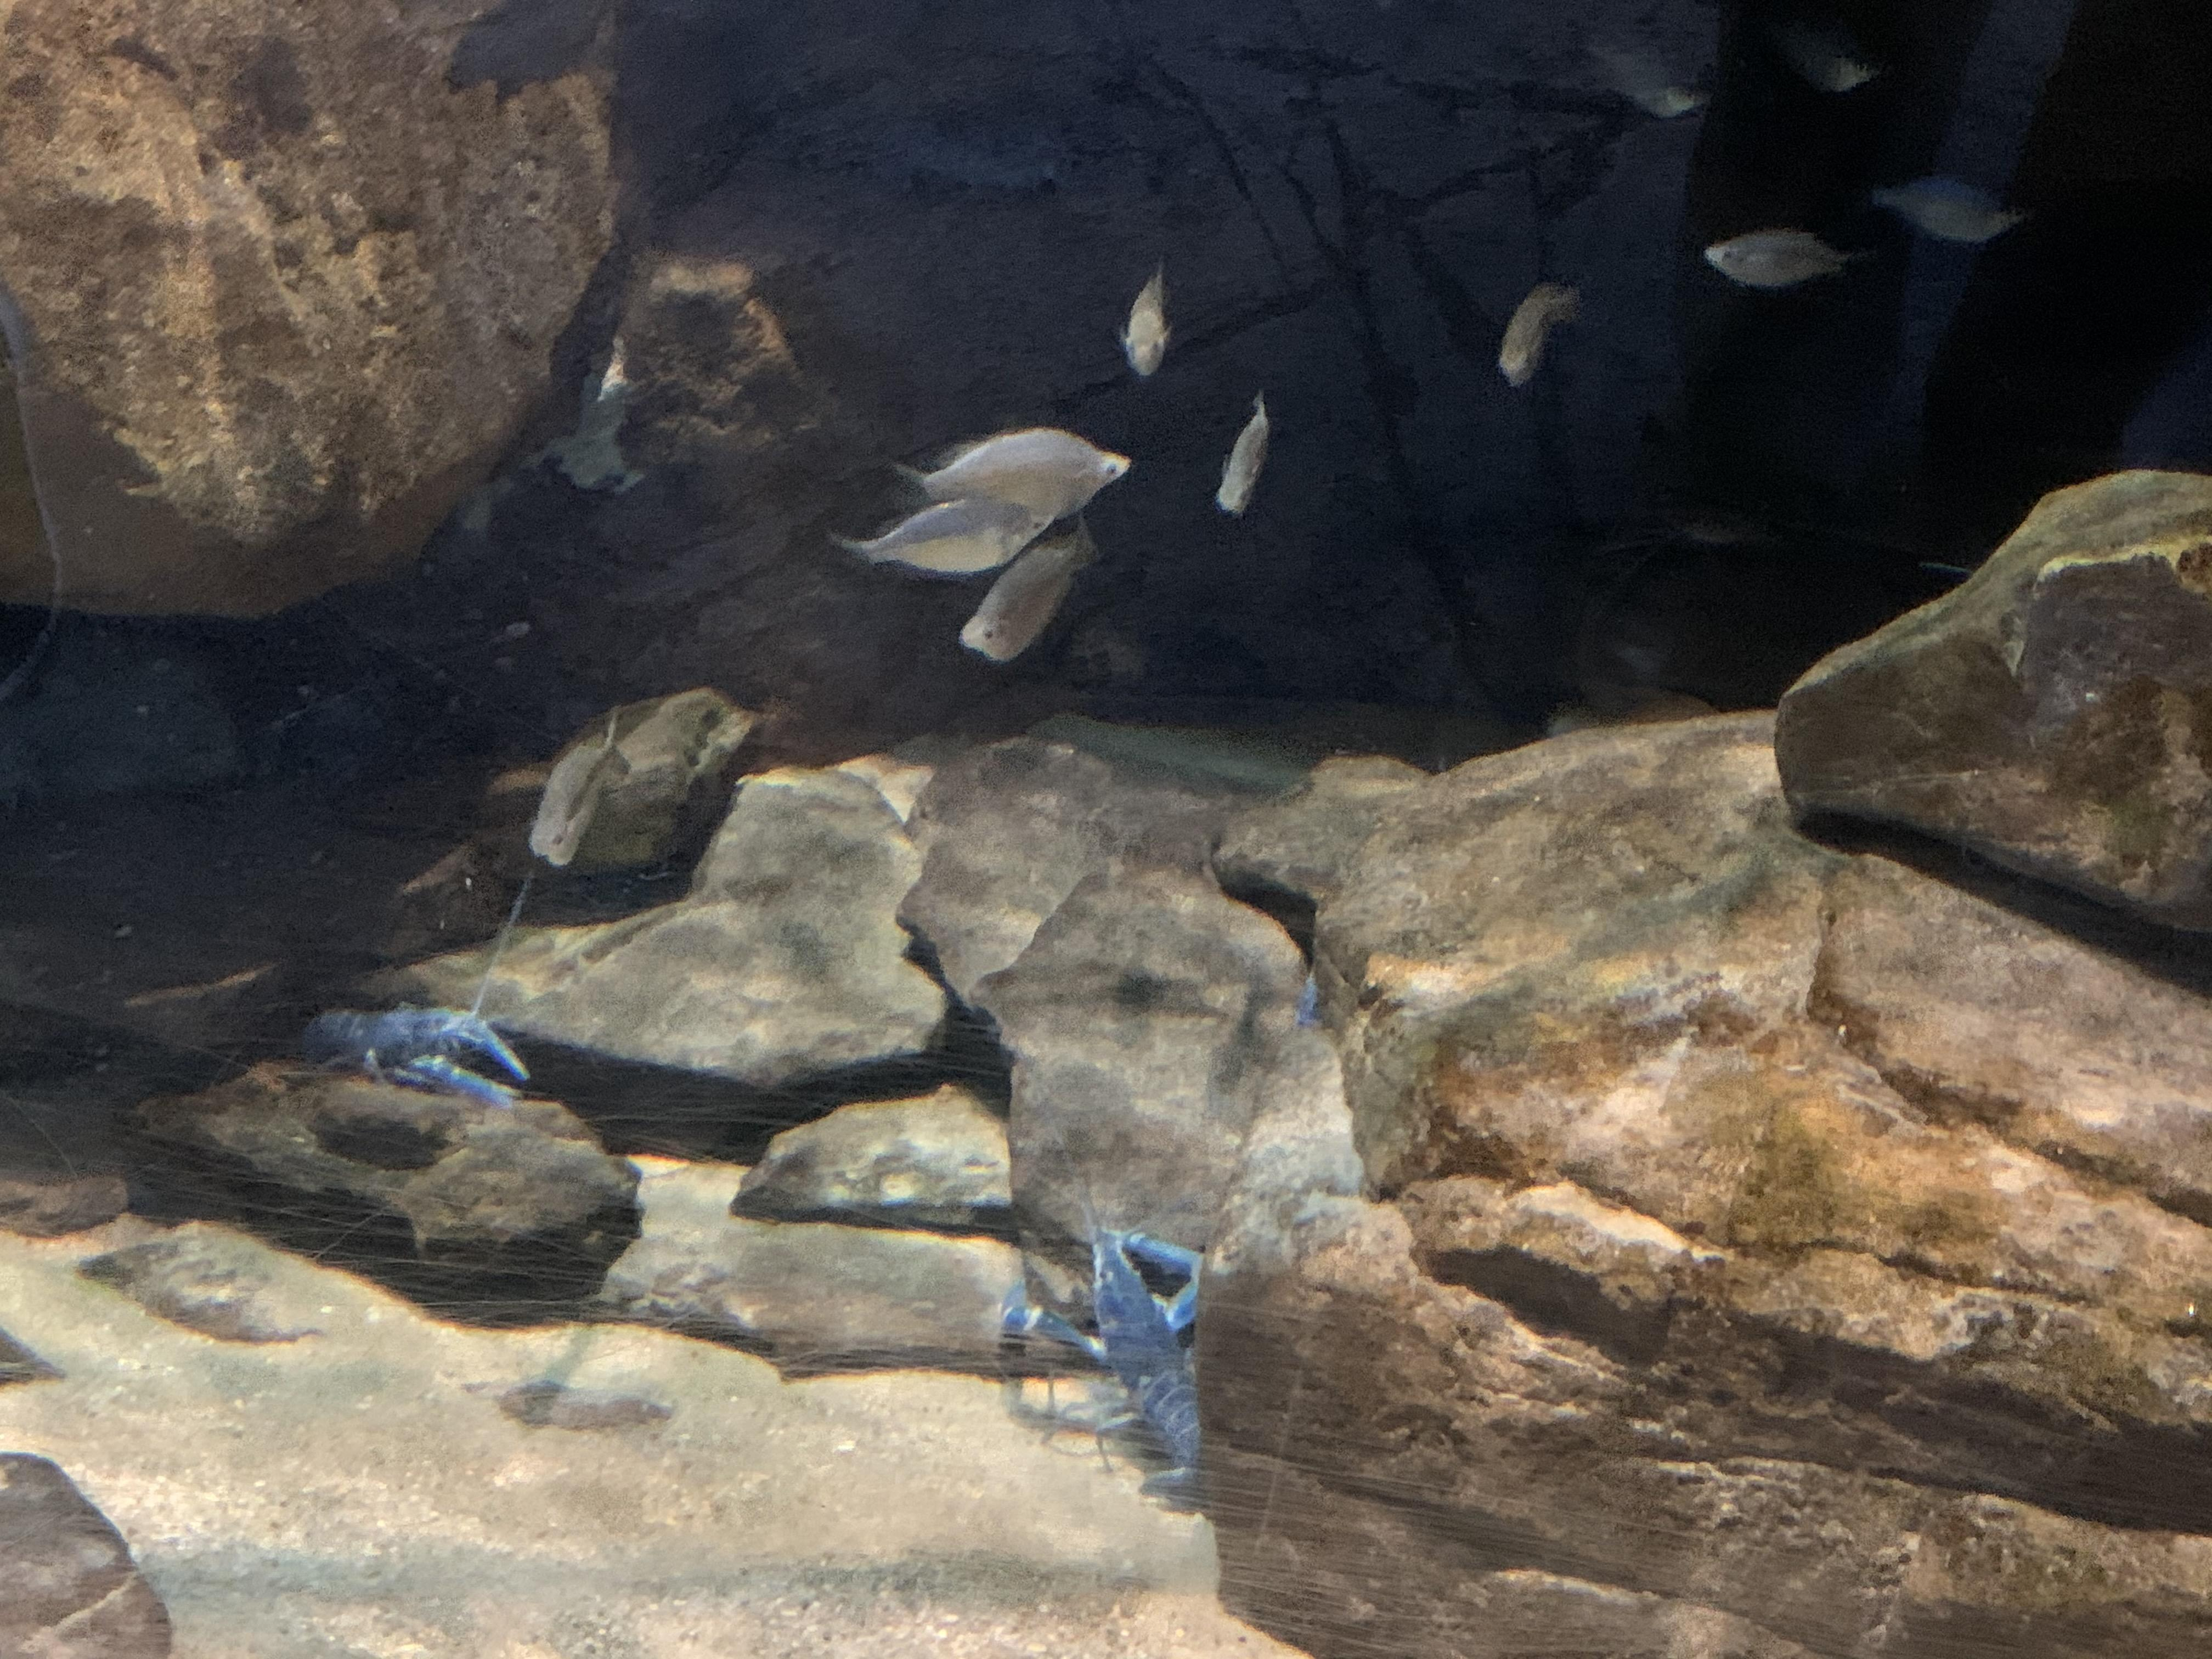fish: (889, 420, 1135, 529), (958, 516, 1110, 678), (816, 498, 1054, 586), (531, 709, 631, 868), (1864, 167, 2030, 253), (1490, 268, 1593, 398), (1700, 224, 1867, 299), (1207, 383, 1282, 529), (1110, 258, 1177, 390), (1624, 80, 1720, 133)
